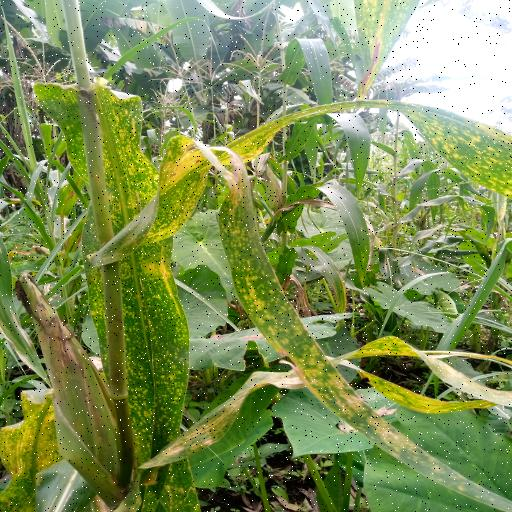Corn_Brown_Spots: (107, 104, 512, 270), (66, 83, 190, 462)
